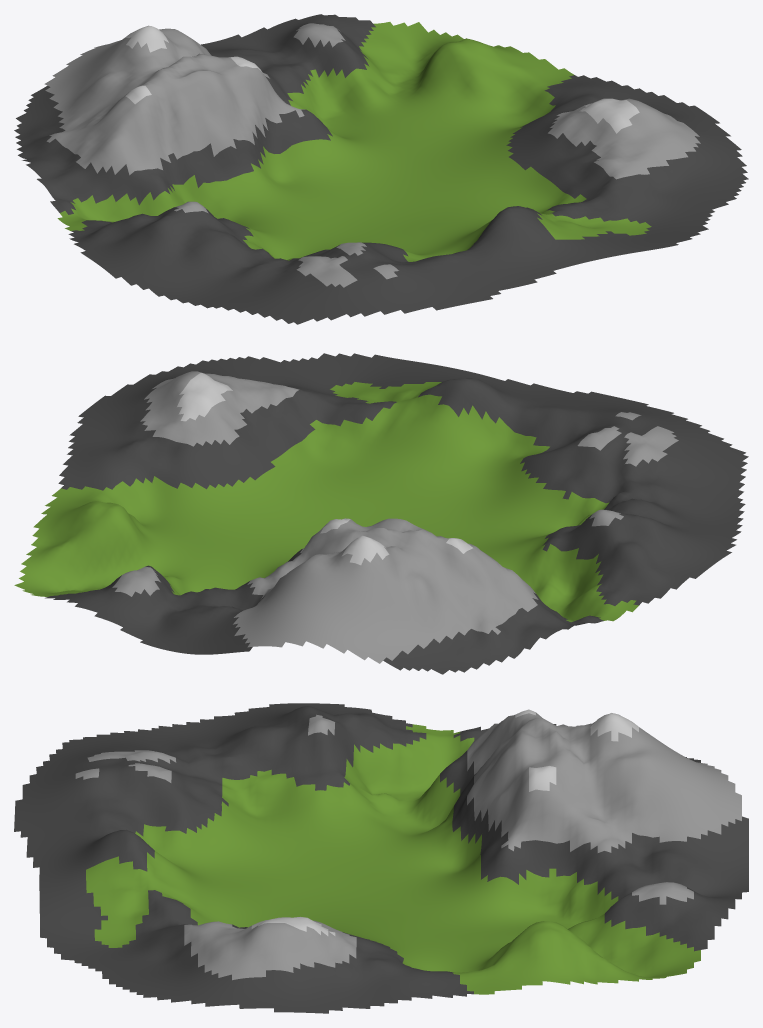
The model's file is landscapesimple.glb.
The picture shows the model from 3 angles, top to bottom: view 1: azimuth 30°, elevation 25°; view 2: azimuth 150°, elevation 25°; view 3: azimuth 270°, elevation 25°; orthographic projection. The views are drawn at different scales.
Parts seen in each view (by area): view 1: Landscape; view 2: Landscape; view 3: Landscape.
Part boxes in pixels (x1,y1,x2,y2): Landscape: [14, 14, 748, 324]; Landscape: [14, 353, 748, 674]; Landscape: [14, 703, 748, 1013].
Size of the model in its own units: 5.1 by 1.01 by 5.05.
Materials: 1 (1 with a texture image).
